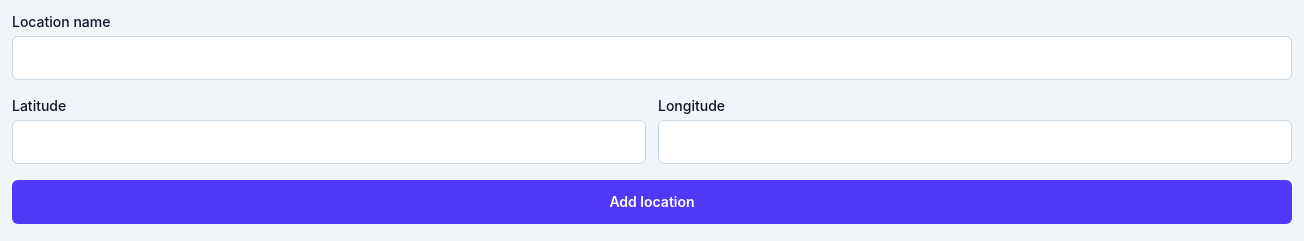
AddLocationForm coordinates › accept only numbers
Type "a-3.1e5x7" into the field labelled "Latitude" at (329, 142), box [12,120,646,164]
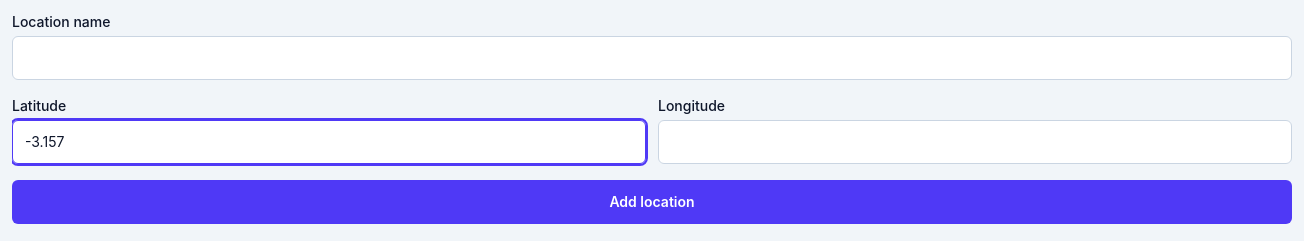
Type "1-0+1.5.2" into the field labelled "Longitude" at (975, 142), box [658,120,1292,164]
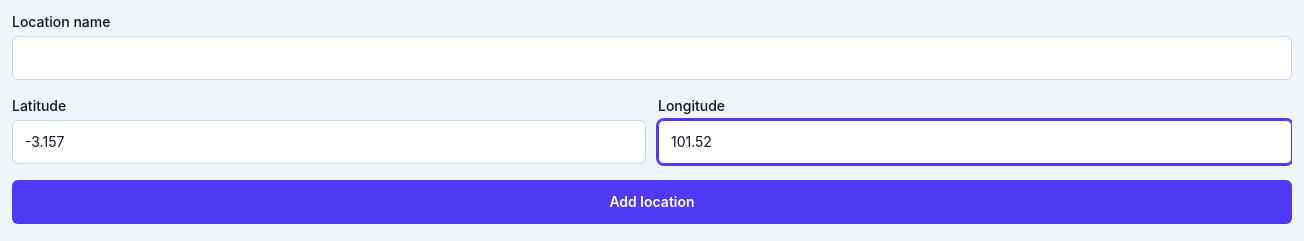
Result: the field labelled "Latitude" holds "-3.157" at [12,120,646,164]
Result: the field labelled "Longitude" holds "101.52" at [658,120,1292,164]
